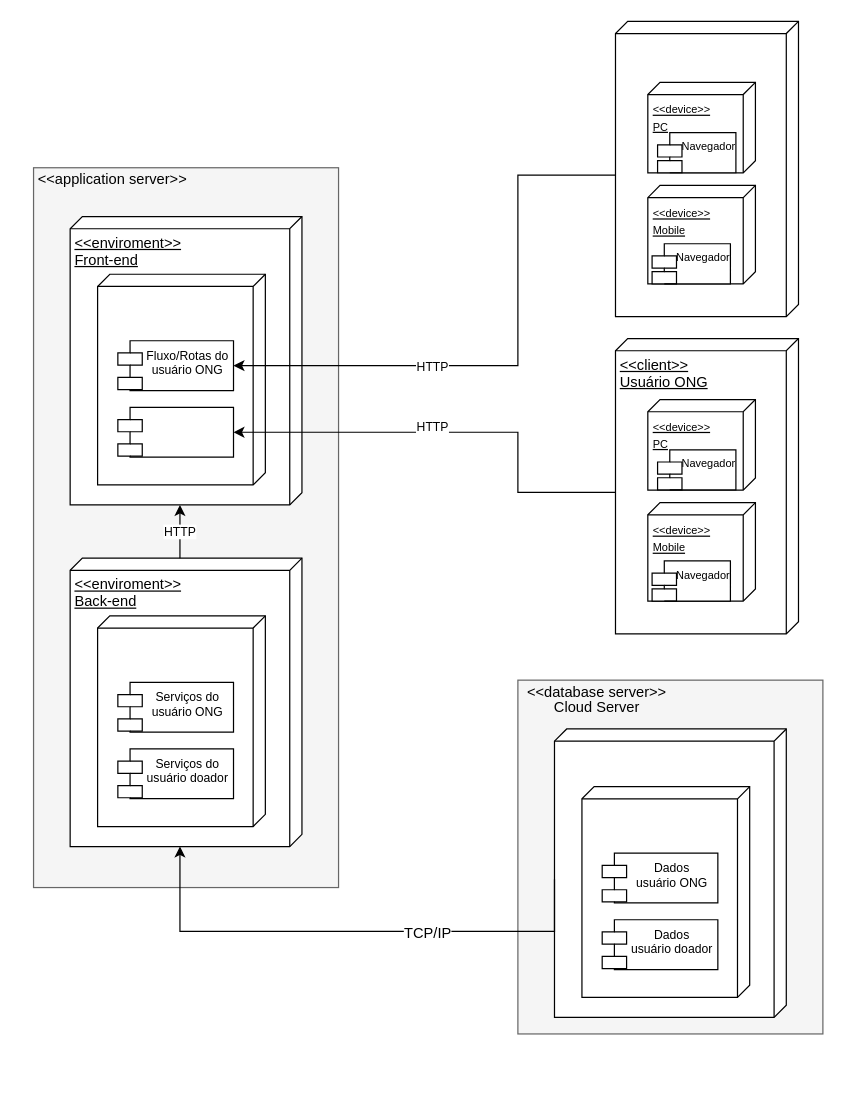
The diagram is 844 pixels wide and 1104 high, and some of its shapes have lost their labels. Each missing label, with the box of its shape:
<<client>> Usuário doador: (614, 20, 798, 317)
<<enviroment>> Database: (553, 728, 786, 1017)
<<JS framework>> Express.JS: (96, 615, 265, 827)
<<JS library>> React.JS: (96, 273, 265, 485)
<<SGBD>> MySQL: (581, 785, 750, 997)
Fluxo/Rotas do usuário doador: (117, 406, 234, 457)
«interface» Name: (517, 679, 823, 1034)
